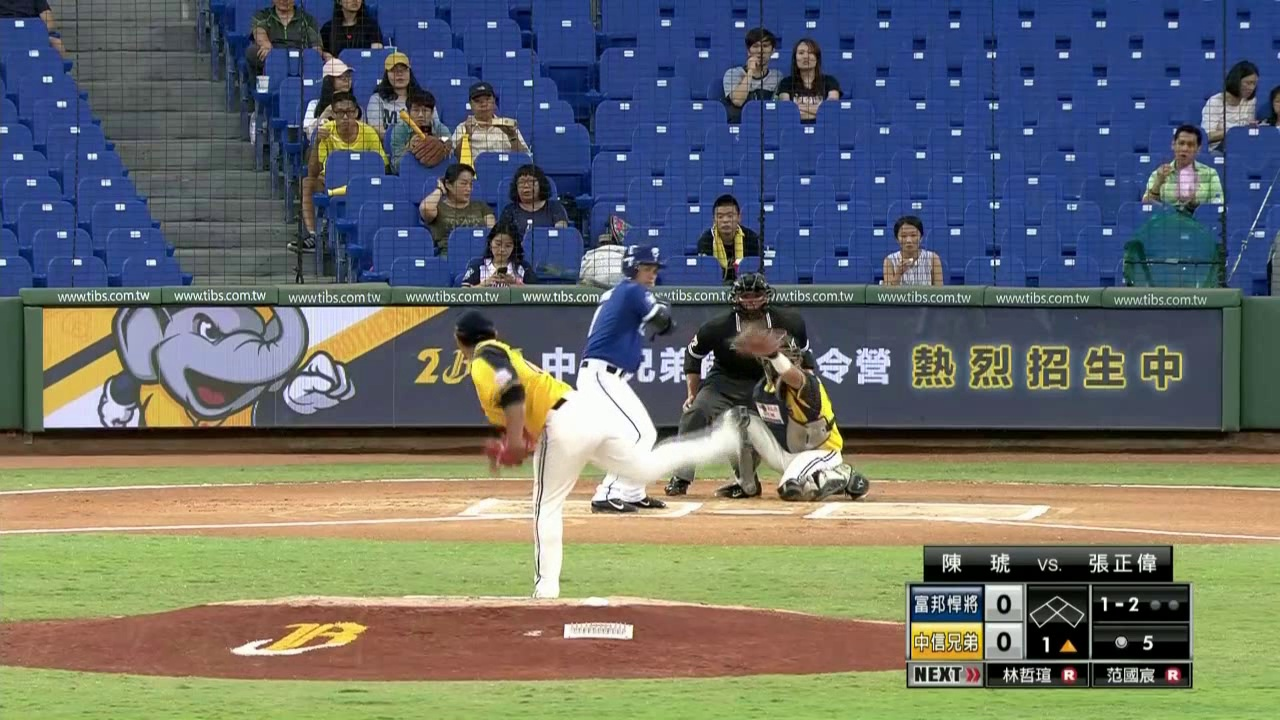ball: (467, 452, 494, 485)
base: (1029, 594, 1086, 628)
bat: (851, 178, 920, 257)
out: (1149, 595, 1184, 614)
score1: (986, 584, 1022, 620)
score2: (986, 623, 1024, 658)
session: (1038, 633, 1083, 654)
strikeball: (1095, 593, 1142, 613)
total: (1106, 627, 1165, 655)
